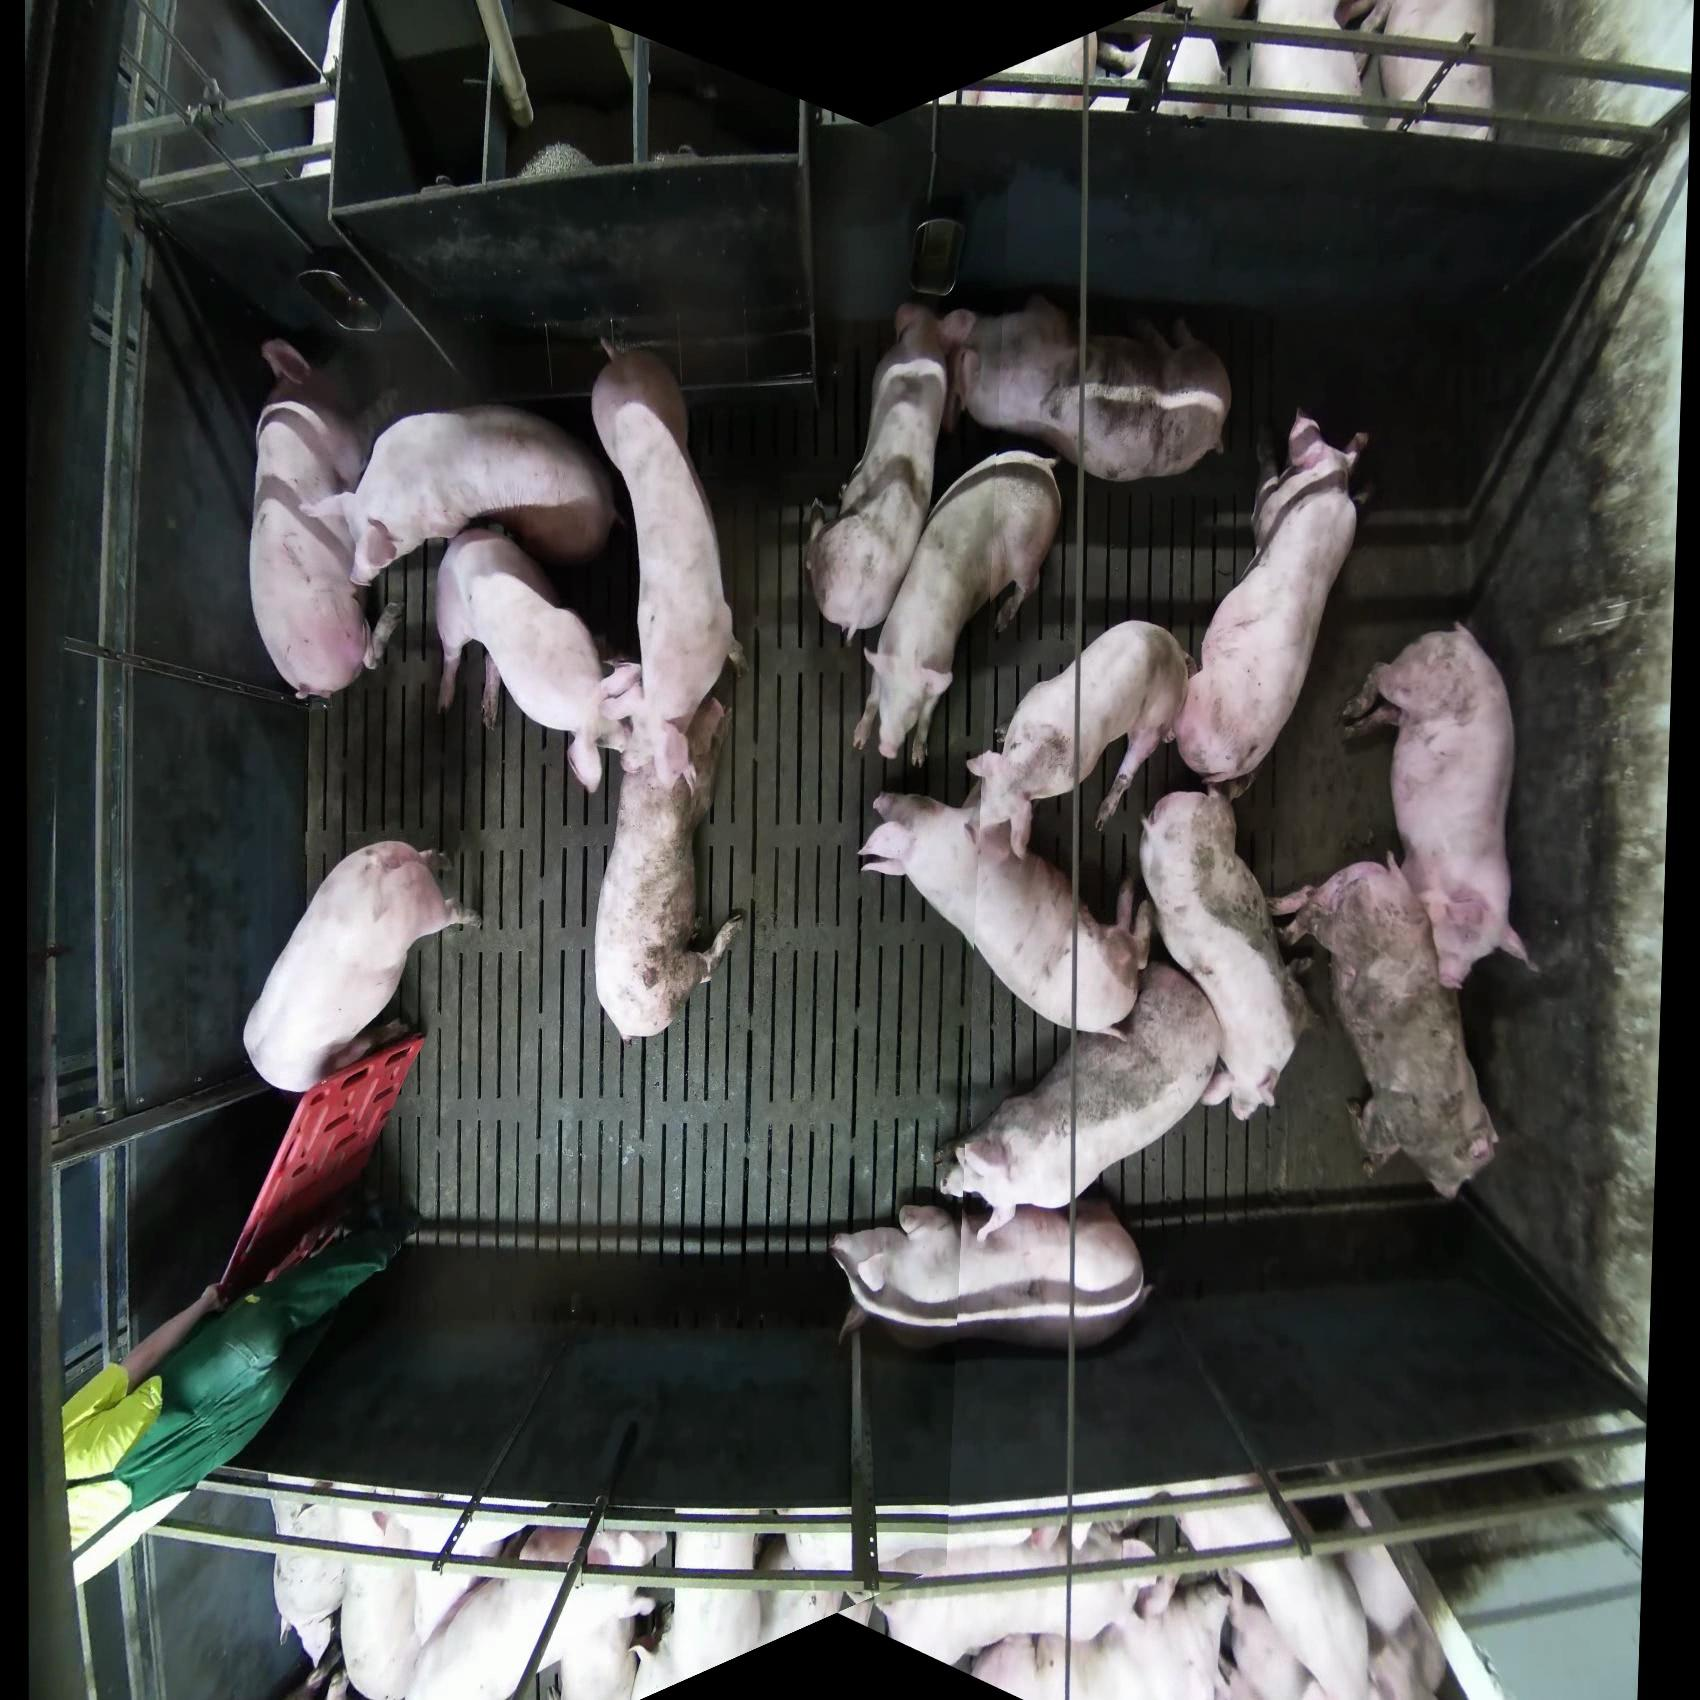pig: (267, 1484, 1452, 1700), (932, 960, 1225, 1240), (1270, 853, 1501, 1202), (1172, 409, 1371, 803), (1338, 620, 1541, 993), (856, 784, 1155, 1038), (589, 341, 748, 790), (850, 449, 1064, 768), (241, 838, 478, 1095), (211, 1029, 426, 1311), (302, 402, 617, 591), (1138, 789, 1314, 1123), (247, 337, 405, 702), (592, 669, 745, 1042), (965, 618, 1194, 861), (939, 294, 1233, 483), (433, 526, 639, 795), (829, 1191, 1150, 1352), (405, 1523, 673, 1699), (870, 1521, 1160, 1669), (805, 356, 949, 646), (269, 1490, 419, 1699), (1191, 1, 1383, 129), (1336, 1, 1498, 142)
worker: (60, 1216, 407, 1588), (60, 1281, 229, 1553)
